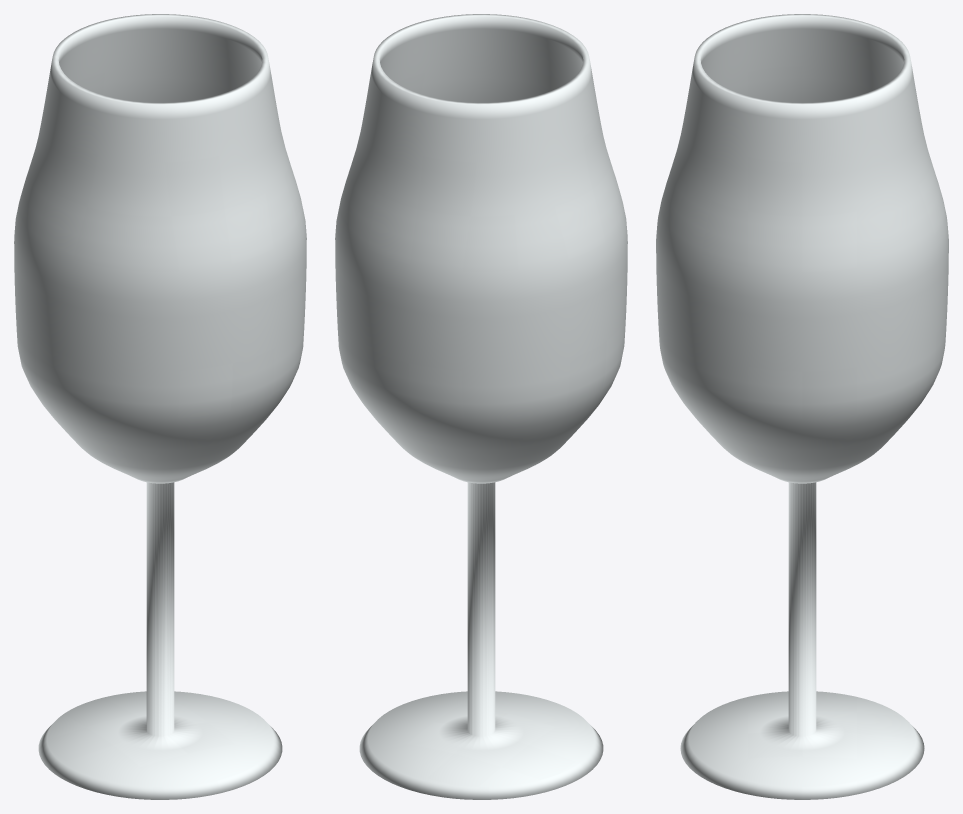
The model's file is glass.glb.
3 views of the same model, side by side, from view 1: azimuth 30°, elevation 25°; view 2: azimuth 150°, elevation 25°; view 3: azimuth 270°, elevation 25° (orthographic).
Parts seen in each view (by area): view 1: Stemware foot; view 2: Stemware foot; view 3: Stemware foot.
Part boxes in pixels (x1=…): Stemware foot: x1=14, y1=14, x2=306, y2=799; Stemware foot: x1=335, y1=14, x2=627, y2=799; Stemware foot: x1=656, y1=14, x2=948, y2=799.
Size of the model in its own units: 0.084 by 0.22 by 0.084.
1 material, 1 textured.
